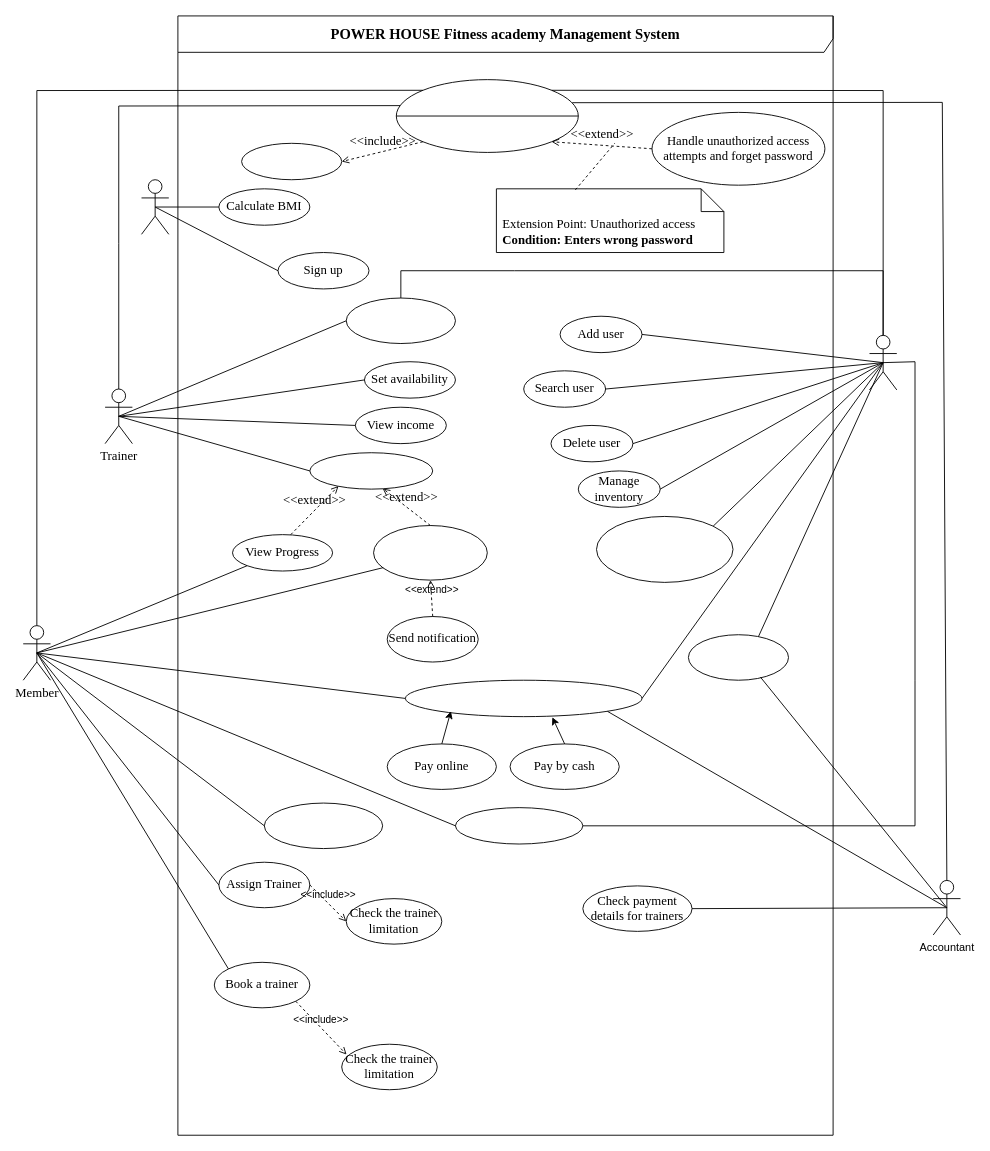
The diagram is 990 pixels wide and 1151 high, and some of its shapes have lost their labels. The centre of each missing label's shape, as x and y in pixels:
"Add/Update Meal plan and schedule" belongs at point 430,552.
"Admin" belongs at point 883,362.
"Check trainer availability" belongs at point 323,825.
"Login Extension point: Unauthorized access" belongs at point 486,115.
"Make Payments / Renew membership" belongs at point 523,698.
"Manage open/close date and times" belongs at point 664,549.
"Update profile detail" belongs at point 519,825.
"Update trainer details" belongs at point 400,320.
"Verify Password" belongs at point 291,161.
"View assigned users" belongs at point 371,470.
"View Income report" belongs at point 738,657.
"Visitor" belongs at point 155,206.
